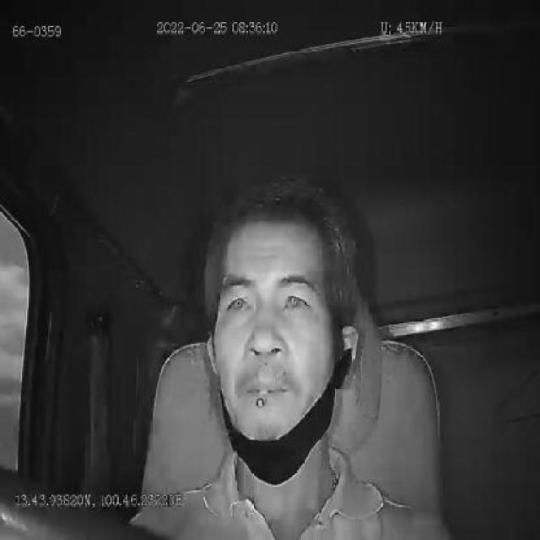smoking: (253, 390, 268, 410)
